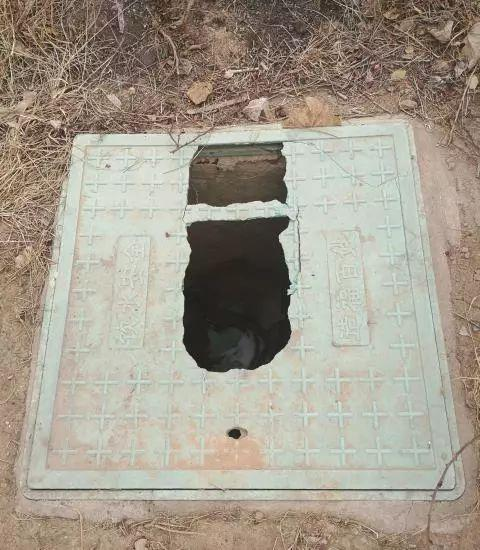wellcover: (39, 112, 471, 497)
